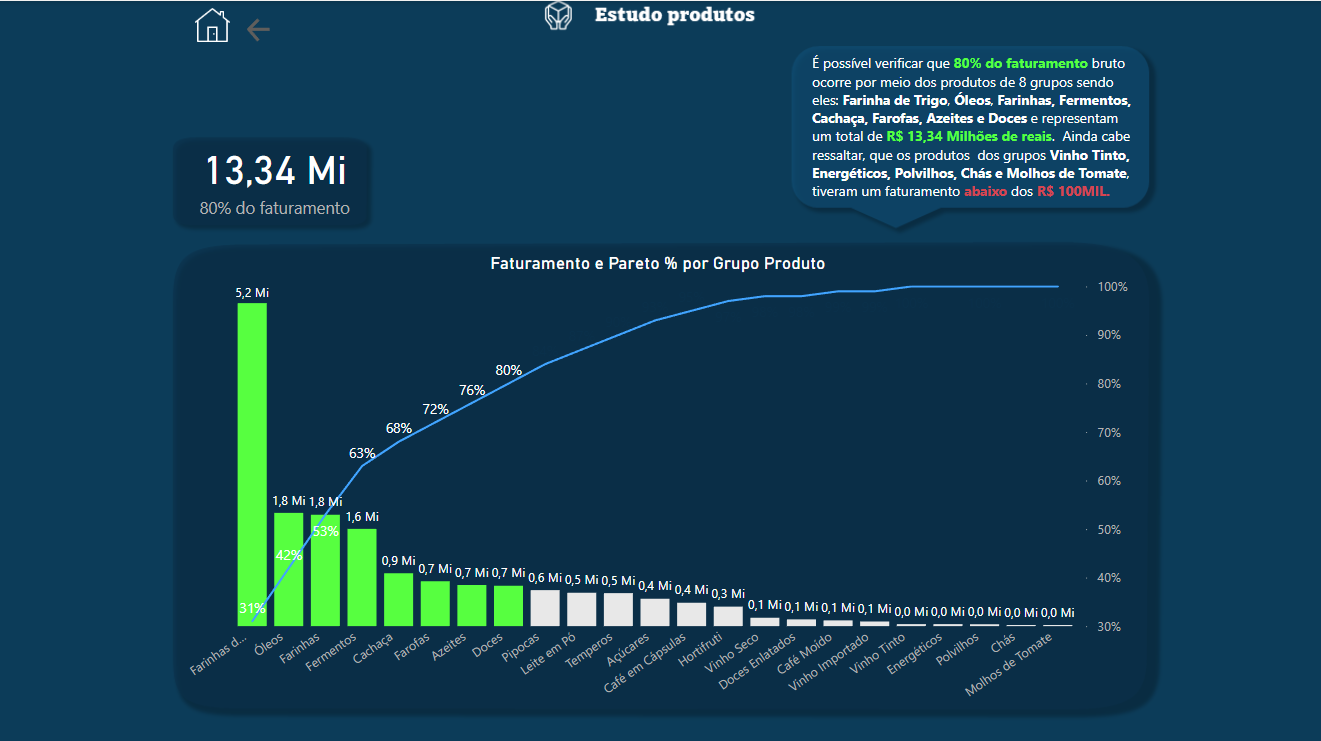

Layout of this report page (visuals, bound fields, positions):
{"tool":"powerbi","page":{"name":"Estudo_produtos","canvas":[1280,720],"ordinal":4},"visuals":[{"type":"lineStackedColumnComboChart","title":"Faturamento e Pareto % por Grupo Produto","fields":{"Category":["Dim_produtos.Grupo_Produto"],"Y":["Medidas.Faturamento"],"Y2":["Medidas.Pareto %"]},"box":[177.3,242.4,919,453.5],"z":0},{"type":"textbox","box":[780.3,45.8,325.6,170.1],"z":1000},{"type":"card","fields":{"Values":["Medidas.Faturamento_80%"]},"box":[177.3,124.2,179.7,91.7],"z":2000},{"type":"image","box":[177.3,1.2,59.1,44.6],"z":3000},{"type":"actionButton","box":[236.4,10.9,31.4,35],"z":4000}]}

Visuals, with their boxes in screenshot pixels (x1, y1, x2, y2), scaled from the page's 1280x720 canvas onto the 1321x741 screenshot:
"Faturamento e Pareto % por Grupo Produto" lineStackedColumnComboChart: pyautogui.locateOnScreen(183, 249, 1131, 716)
textbox: pyautogui.locateOnScreen(805, 47, 1141, 222)
card - Medidas.Faturamento_80%: pyautogui.locateOnScreen(183, 128, 368, 222)
image: pyautogui.locateOnScreen(183, 1, 244, 47)
actionButton: pyautogui.locateOnScreen(244, 11, 276, 47)
